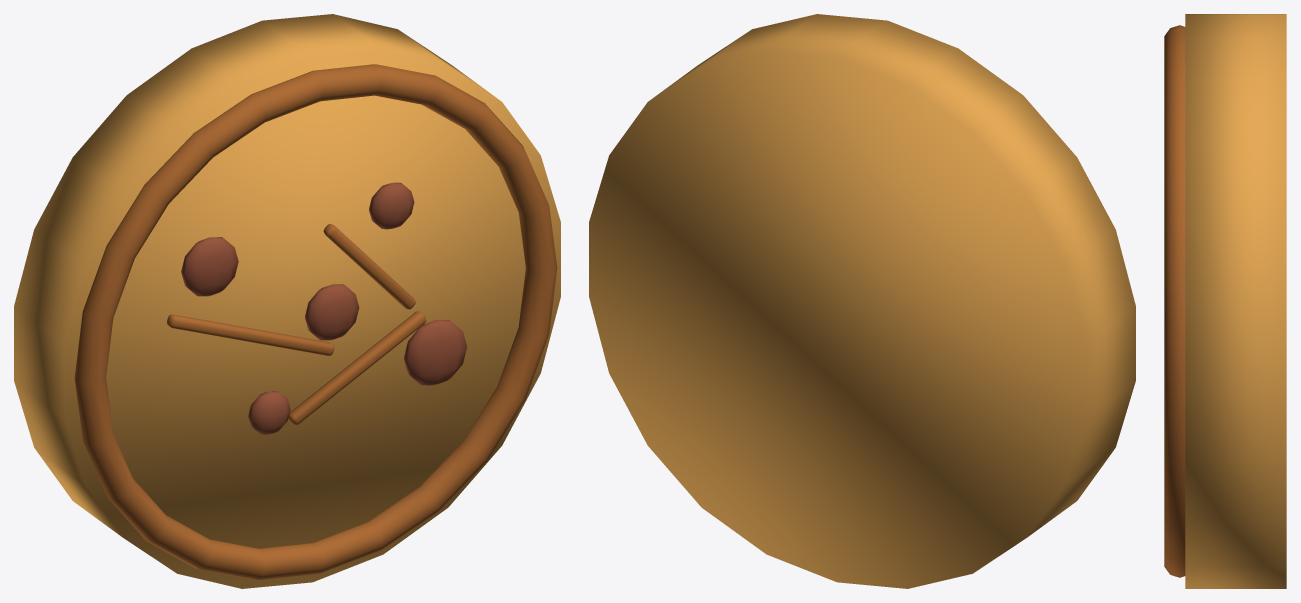
Rendered from cookie.glb.
3 renders of one model, left to right at view 1: azimuth 30°, elevation 25°; view 2: azimuth 150°, elevation 25°; view 3: azimuth 270°, elevation 25°, orthographic.
Parts seen in each view (by area): view 1: cookie; view 2: cookie; view 3: cookie.
Part boxes in pixels (x1,y1,x2,y2): cookie: [14, 14, 560, 588]; cookie: [589, 14, 1135, 588]; cookie: [1164, 14, 1286, 588].
Bounding box in the file's own units: 0.9898 × 1 × 0.2111.
